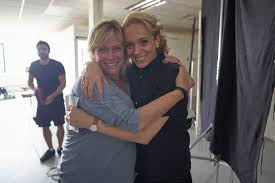Bad: (65, 11, 194, 183), (28, 19, 124, 107)
